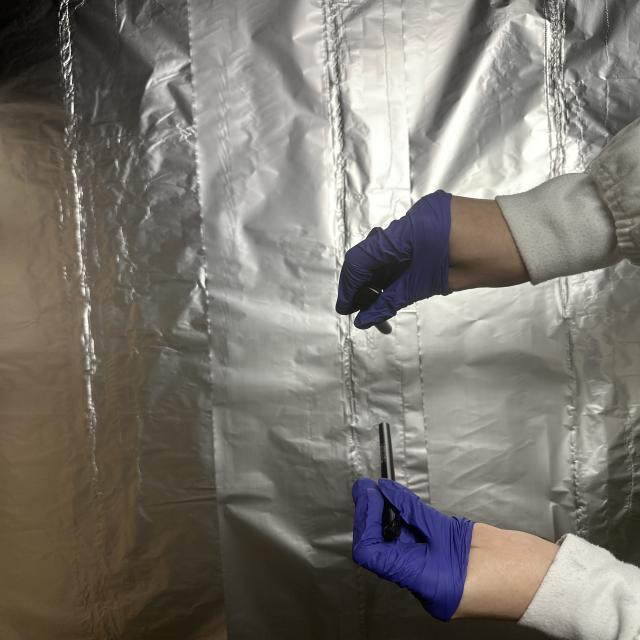glove_partial: (343, 476, 571, 631), (334, 187, 532, 330)
